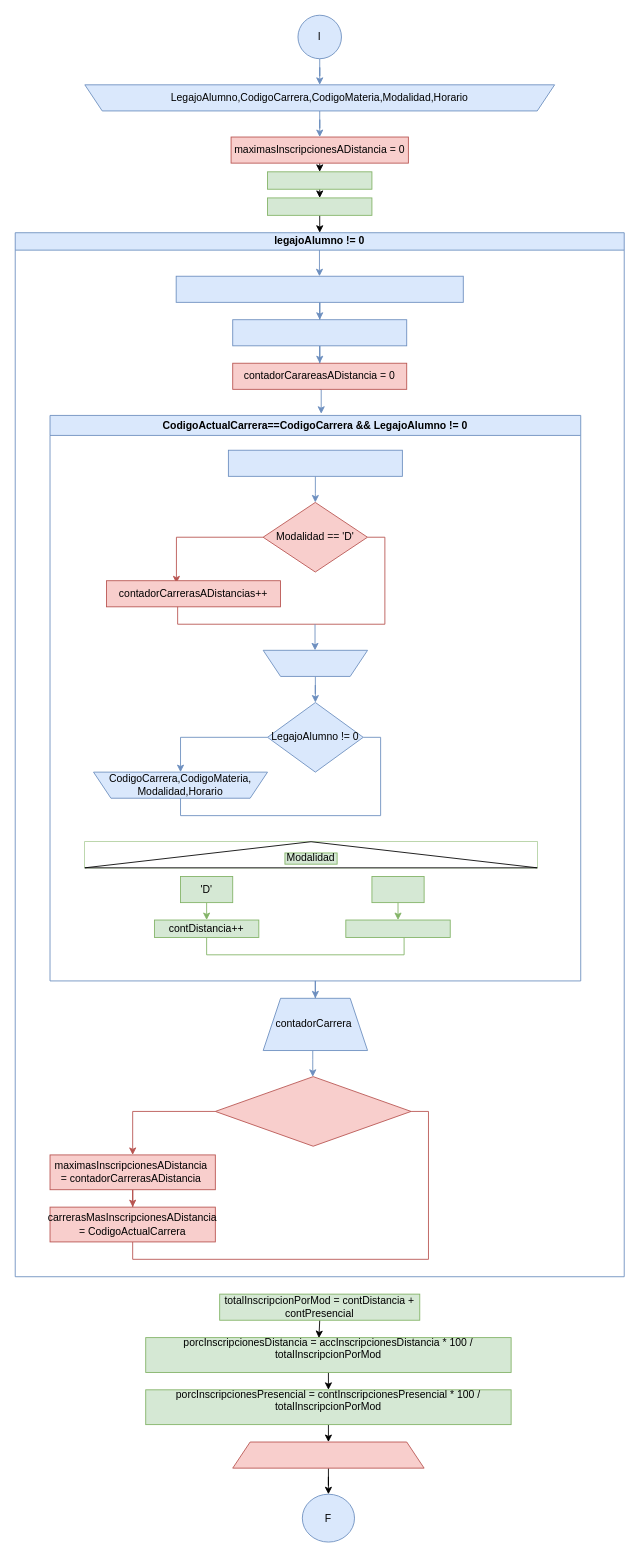
Image size: 639x1557. Some labels were removed from this diagram. Each missing label, with the centre of its shape:
"'P'" belongs at [397,889].
"carrerasMasInscripcionesADistancia" belongs at [328,1454].
"CodigoActualCarrera=CodigoCarrera" belongs at [319,288].
"contadorCarrera ++" belongs at [315,462].
"contadorCarrera= 0" belongs at [319,332].
"contadorCarrerasADistancia > maximasInscripcionesADistancia" belongs at [312,1111].
"contDistancia = 0" belongs at [319,180].
"contPresencial = 0" belongs at [319,206].
"contPresencial++" belongs at [397,928].
"LegajoAlumno" belongs at [315,662].
